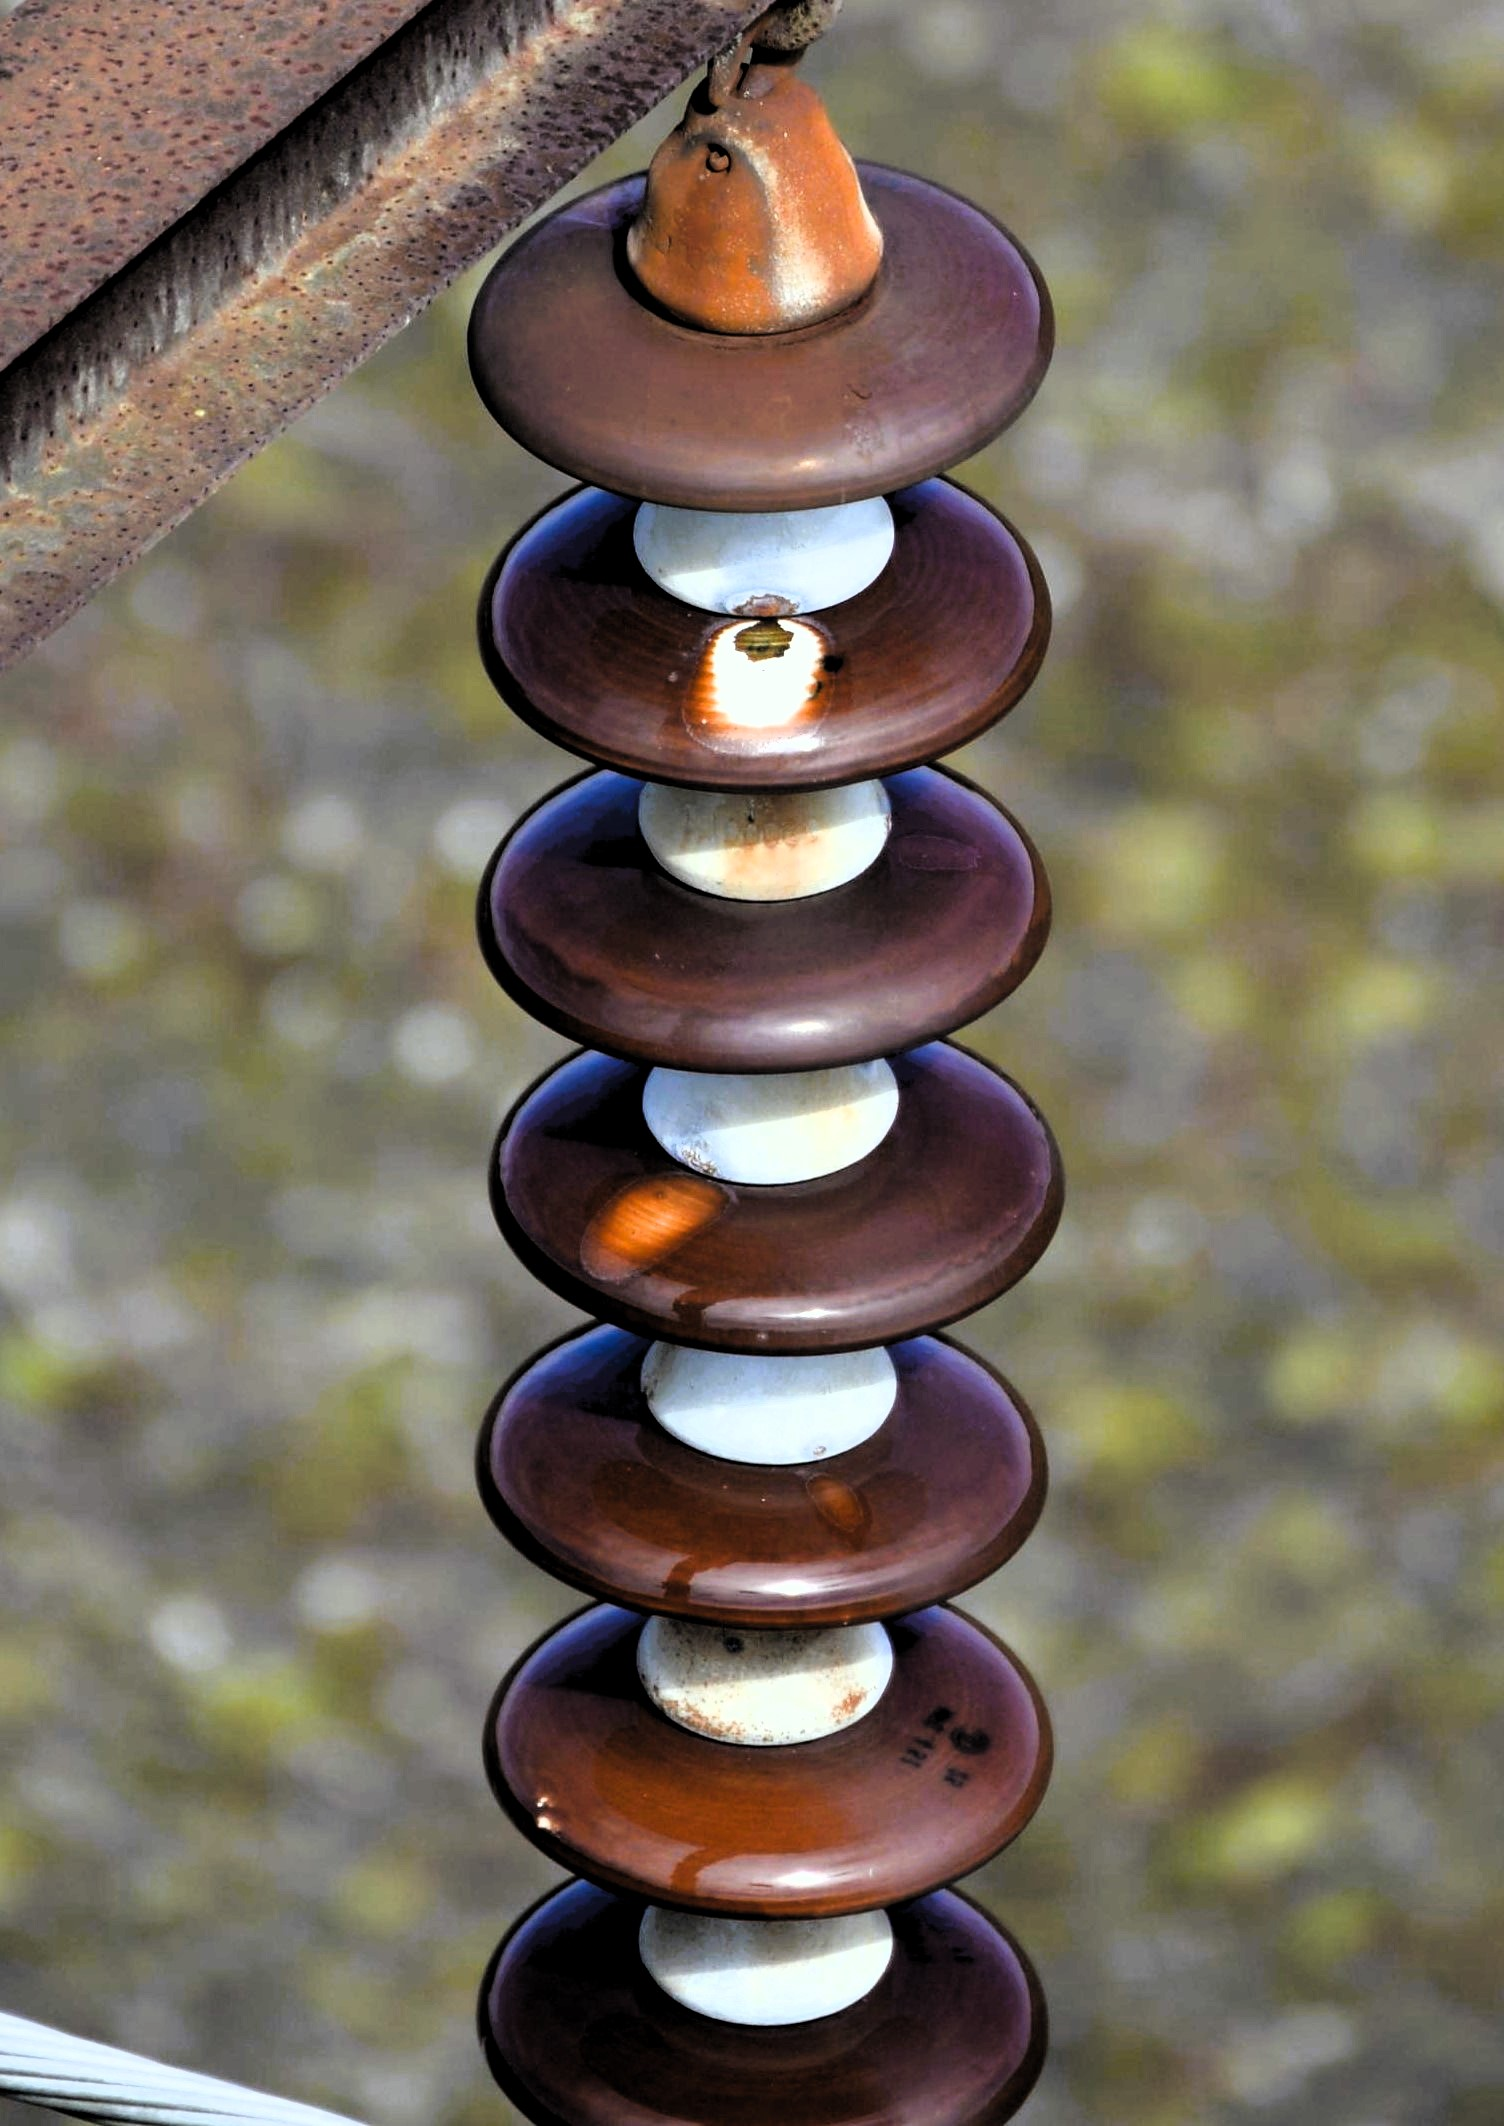Insulator flashover: (453, 479, 1078, 807), (477, 1029, 1078, 1354)
